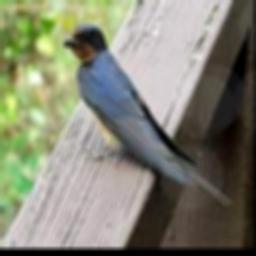Swallow: (64, 21, 232, 207)
